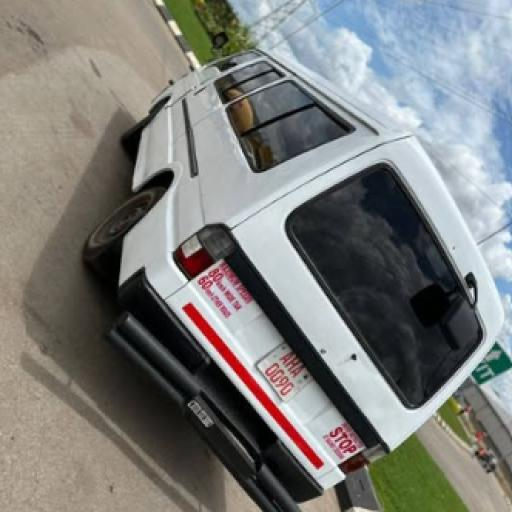number-plates: (265, 343, 325, 397)
